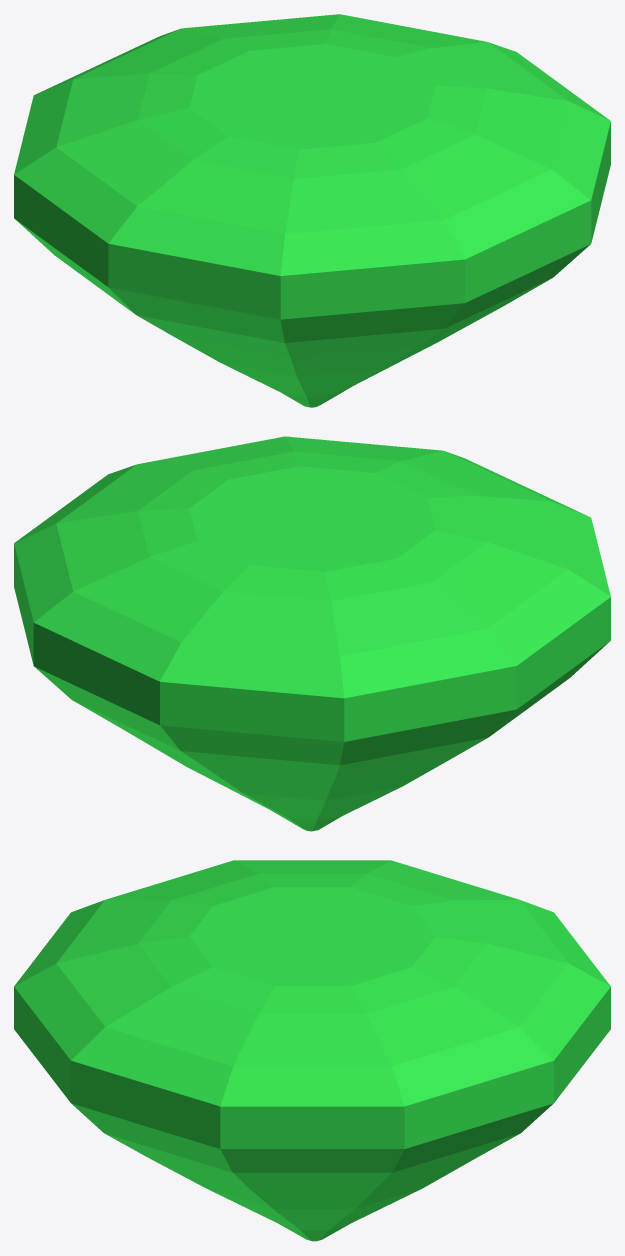
Rendered from green diamond.glb.
3 renders of one model, top to bottom at view 1: azimuth 30°, elevation 25°; view 2: azimuth 150°, elevation 25°; view 3: azimuth 270°, elevation 25°, orthographic. The views are drawn at different scales.
Parts seen in each view (by area): view 1: Icosphere; view 2: Icosphere; view 3: Icosphere.
Part boxes in pixels (x1,y1,x2,y2): Icosphere: [14, 14, 610, 407]; Icosphere: [14, 436, 610, 831]; Icosphere: [14, 860, 610, 1241].
Bounding box in the file's own units: 2.22 × 1.31 × 2.33.
